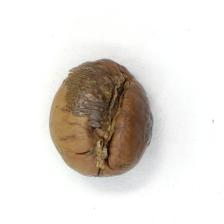NG: (62, 61, 126, 155)
